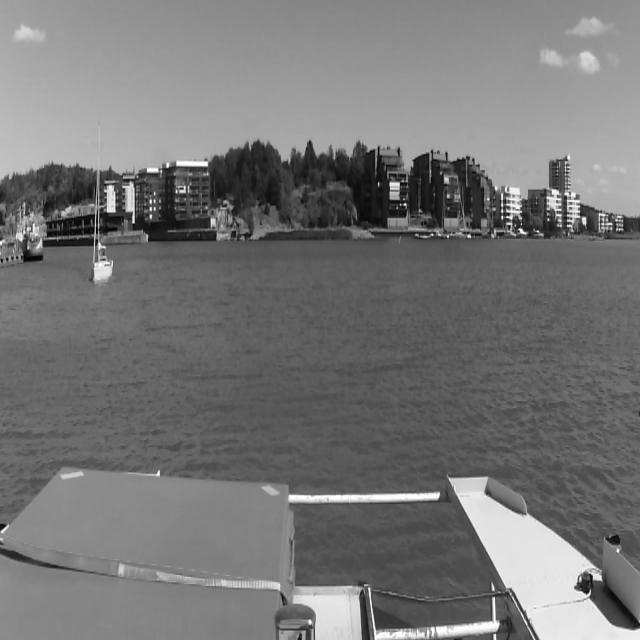buoy: (396, 235, 402, 252)
ship: (90, 117, 114, 280), (450, 185, 470, 239), (25, 224, 44, 262), (436, 190, 450, 239), (532, 228, 544, 239), (516, 229, 528, 239)
